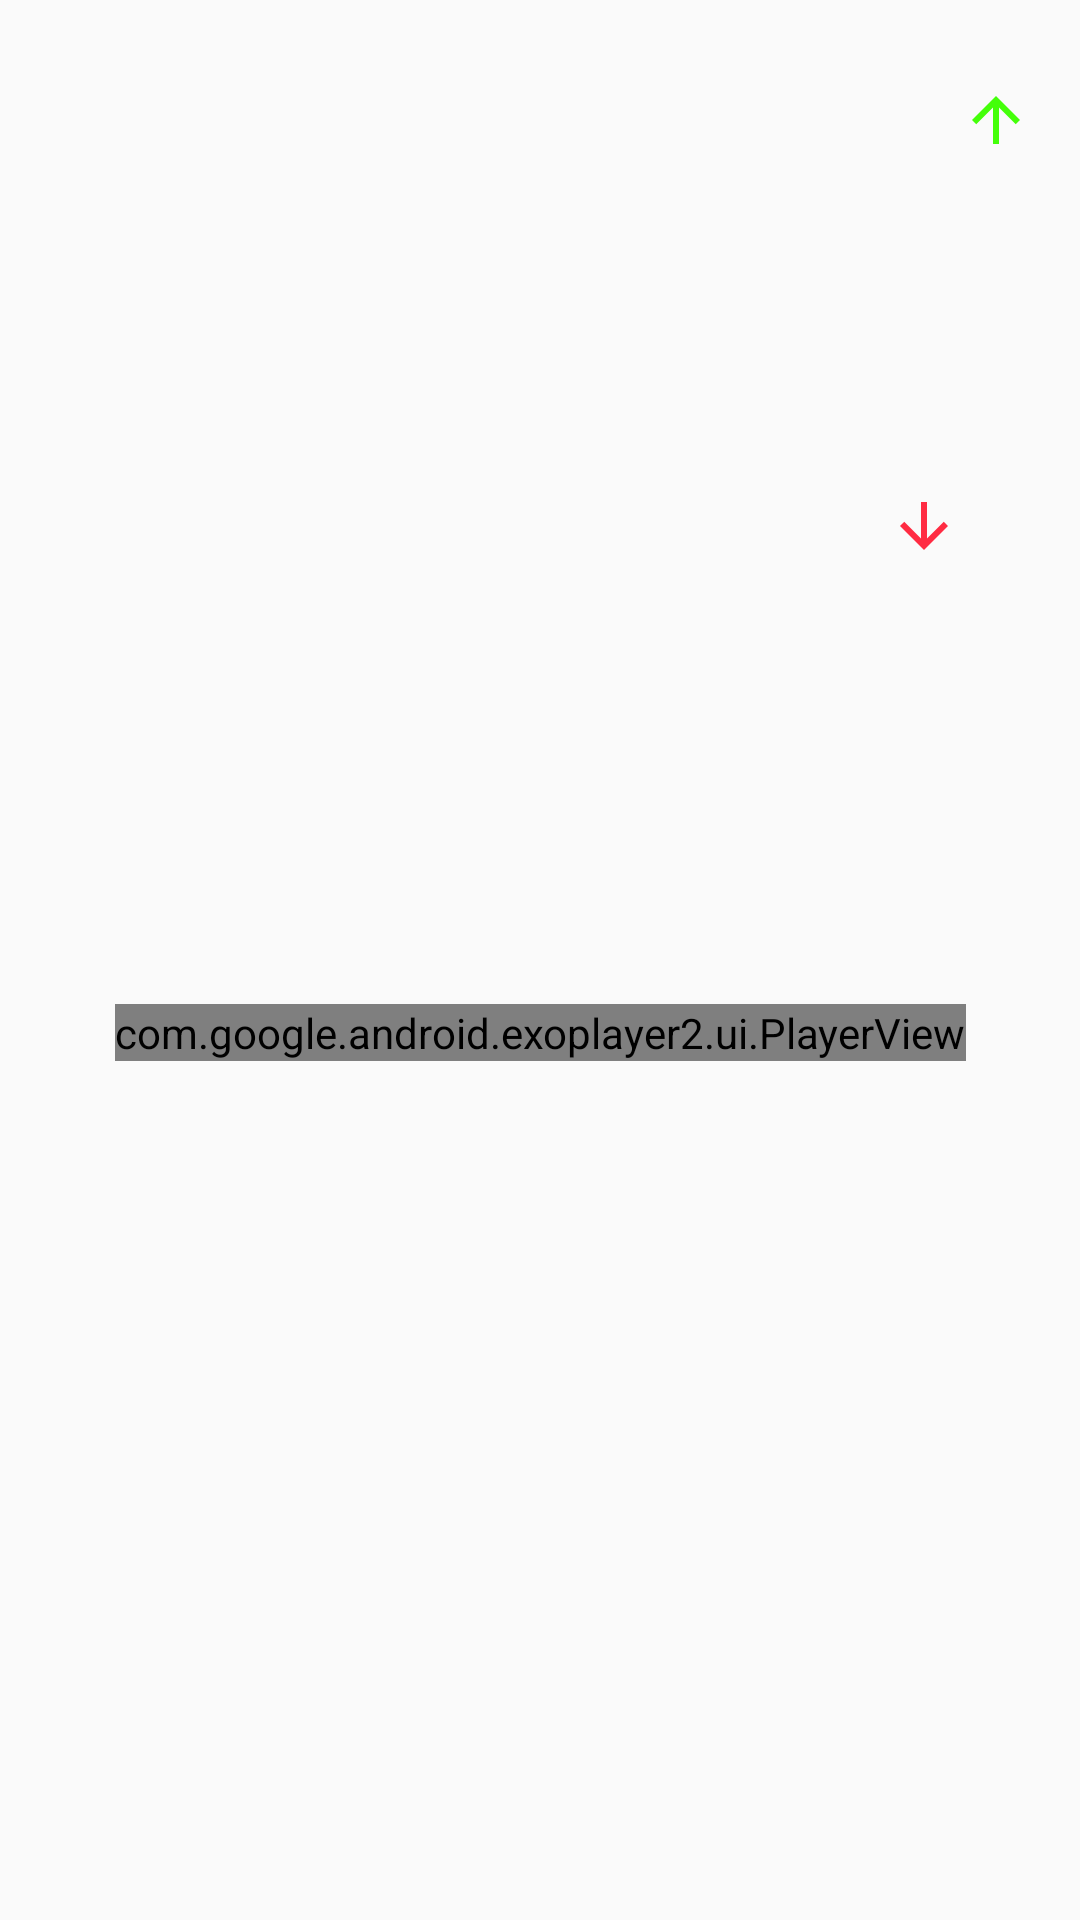

Locate icon controls on the screen. Image size 1080px x 1920px, boxes as (x1,y1,x2,y2).
arrow downward: (900,502,948,550)
arrow upward: (972,96,1020,144)
